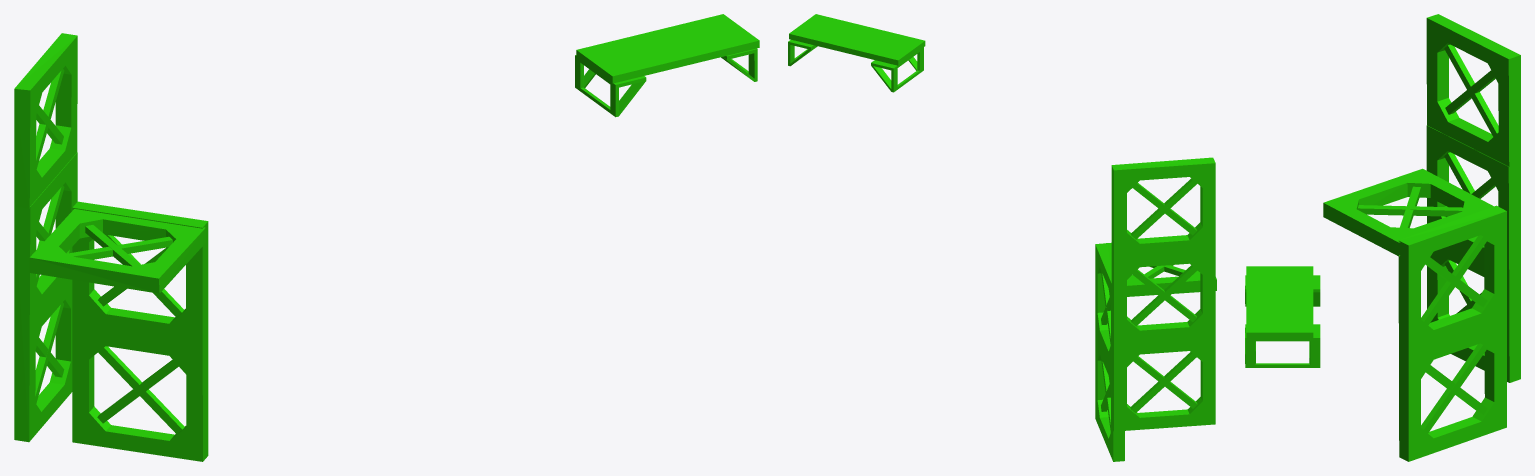
The model's file is palki.FBX.
3 views of the same model, side by side, from view 1: azimuth 30°, elevation 25°; view 2: azimuth 150°, elevation 25°; view 3: azimuth 270°, elevation 25° (orthographic). The views are drawn at different scales.
Parts seen in each view (by area): view 1: Beam40coll; view 2: Beam40coll; view 3: Beam40coll.
Part boxes in pixels (<box>): Beam40coll: <box>14,14,759,461</box>; Beam40coll: <box>788,14,1216,461</box>; Beam40coll: <box>1245,14,1520,461</box>.
Bounding box in the file's own units: 5569 × 3315 × 2246.
